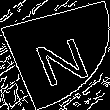N_N: (22, 25, 88, 85)
